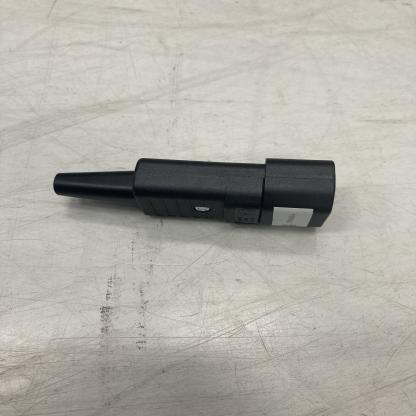SP0000004: (27, 134, 356, 260)
